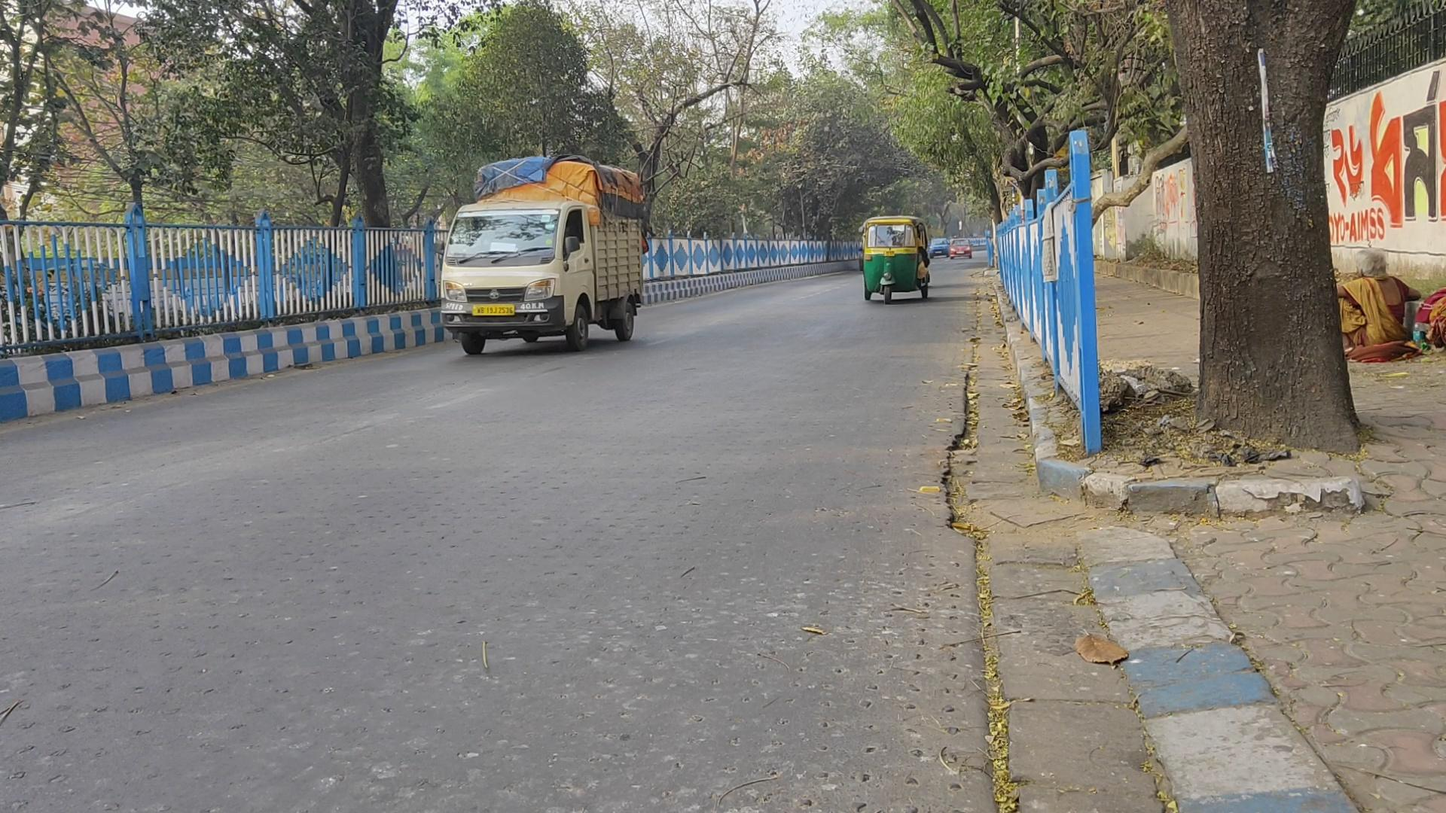Auto: (862, 215, 932, 305)
car: (947, 238, 974, 260), (929, 236, 949, 260)
van: (439, 154, 643, 357)
